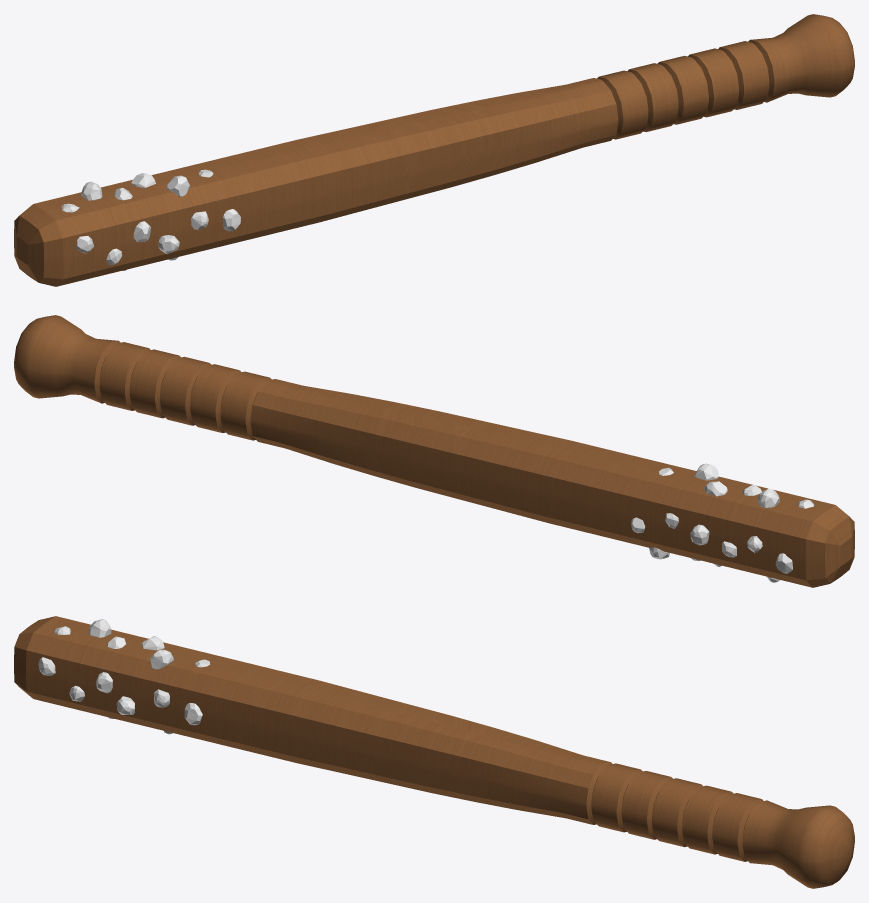
File: StoneClub.fbx
3 views of the same model, one above another, from view 1: azimuth 30°, elevation 25°; view 2: azimuth 150°, elevation 25°; view 3: azimuth 330°, elevation 25° (orthographic).
Visible parts, largest first — view 1: StoneClub; view 2: StoneClub; view 3: StoneClub.
Part boxes in pixels (<box>): StoneClub: <box>14,14,854,286</box>; StoneClub: <box>14,315,854,587</box>; StoneClub: <box>14,616,854,888</box>.
Bounding box in the file's own units: 0.8623 × 0.0928 × 0.0946.
